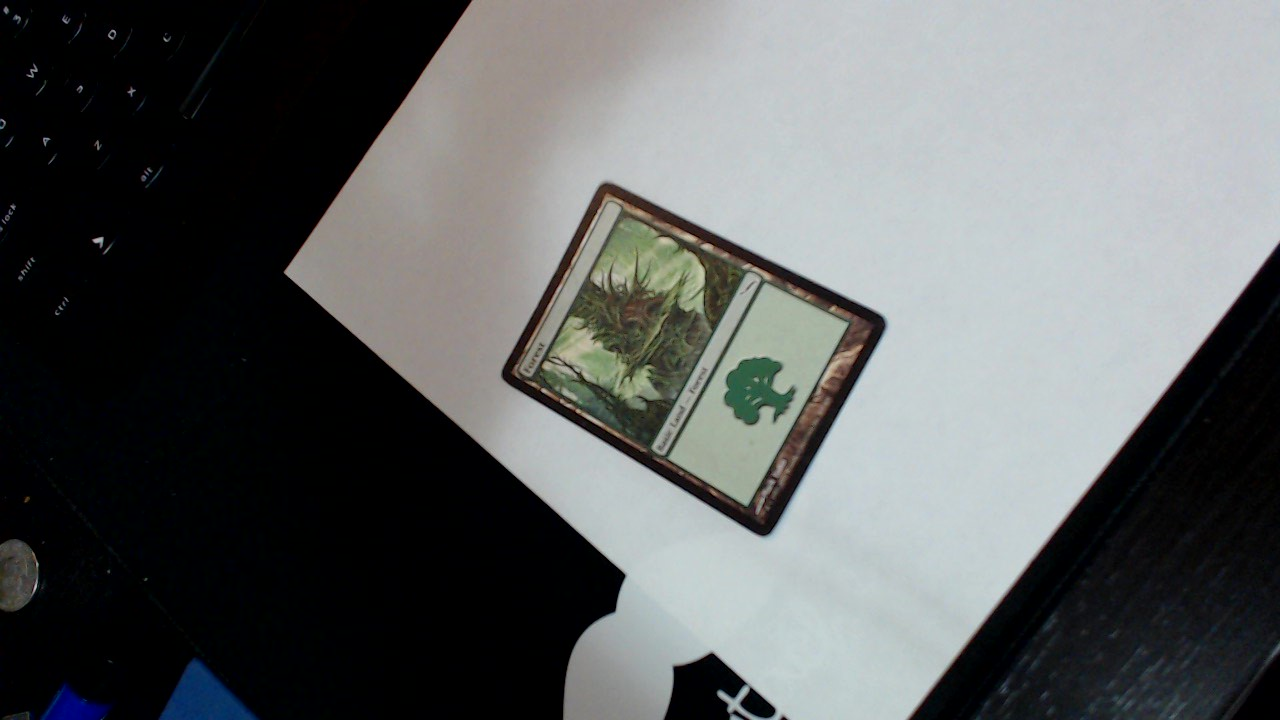MTG Card: (497, 179, 892, 544)
